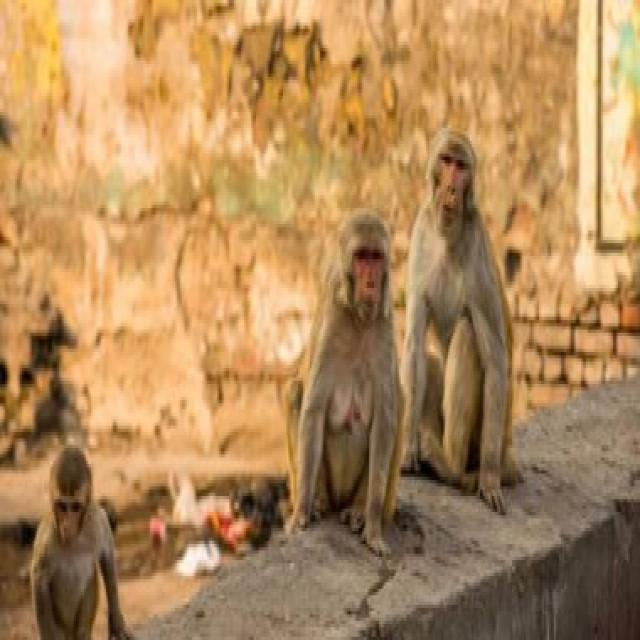monkey: (412, 115, 514, 490), (310, 213, 408, 569), (28, 324, 138, 640)
